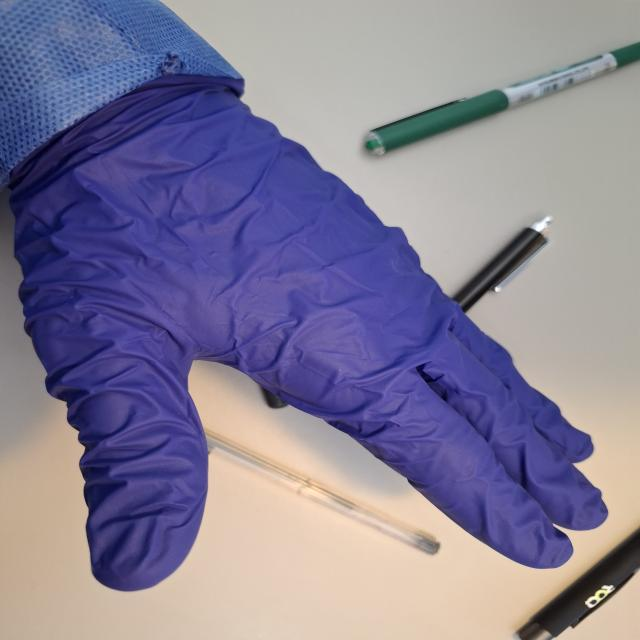glove_on: (7, 69, 609, 590)
